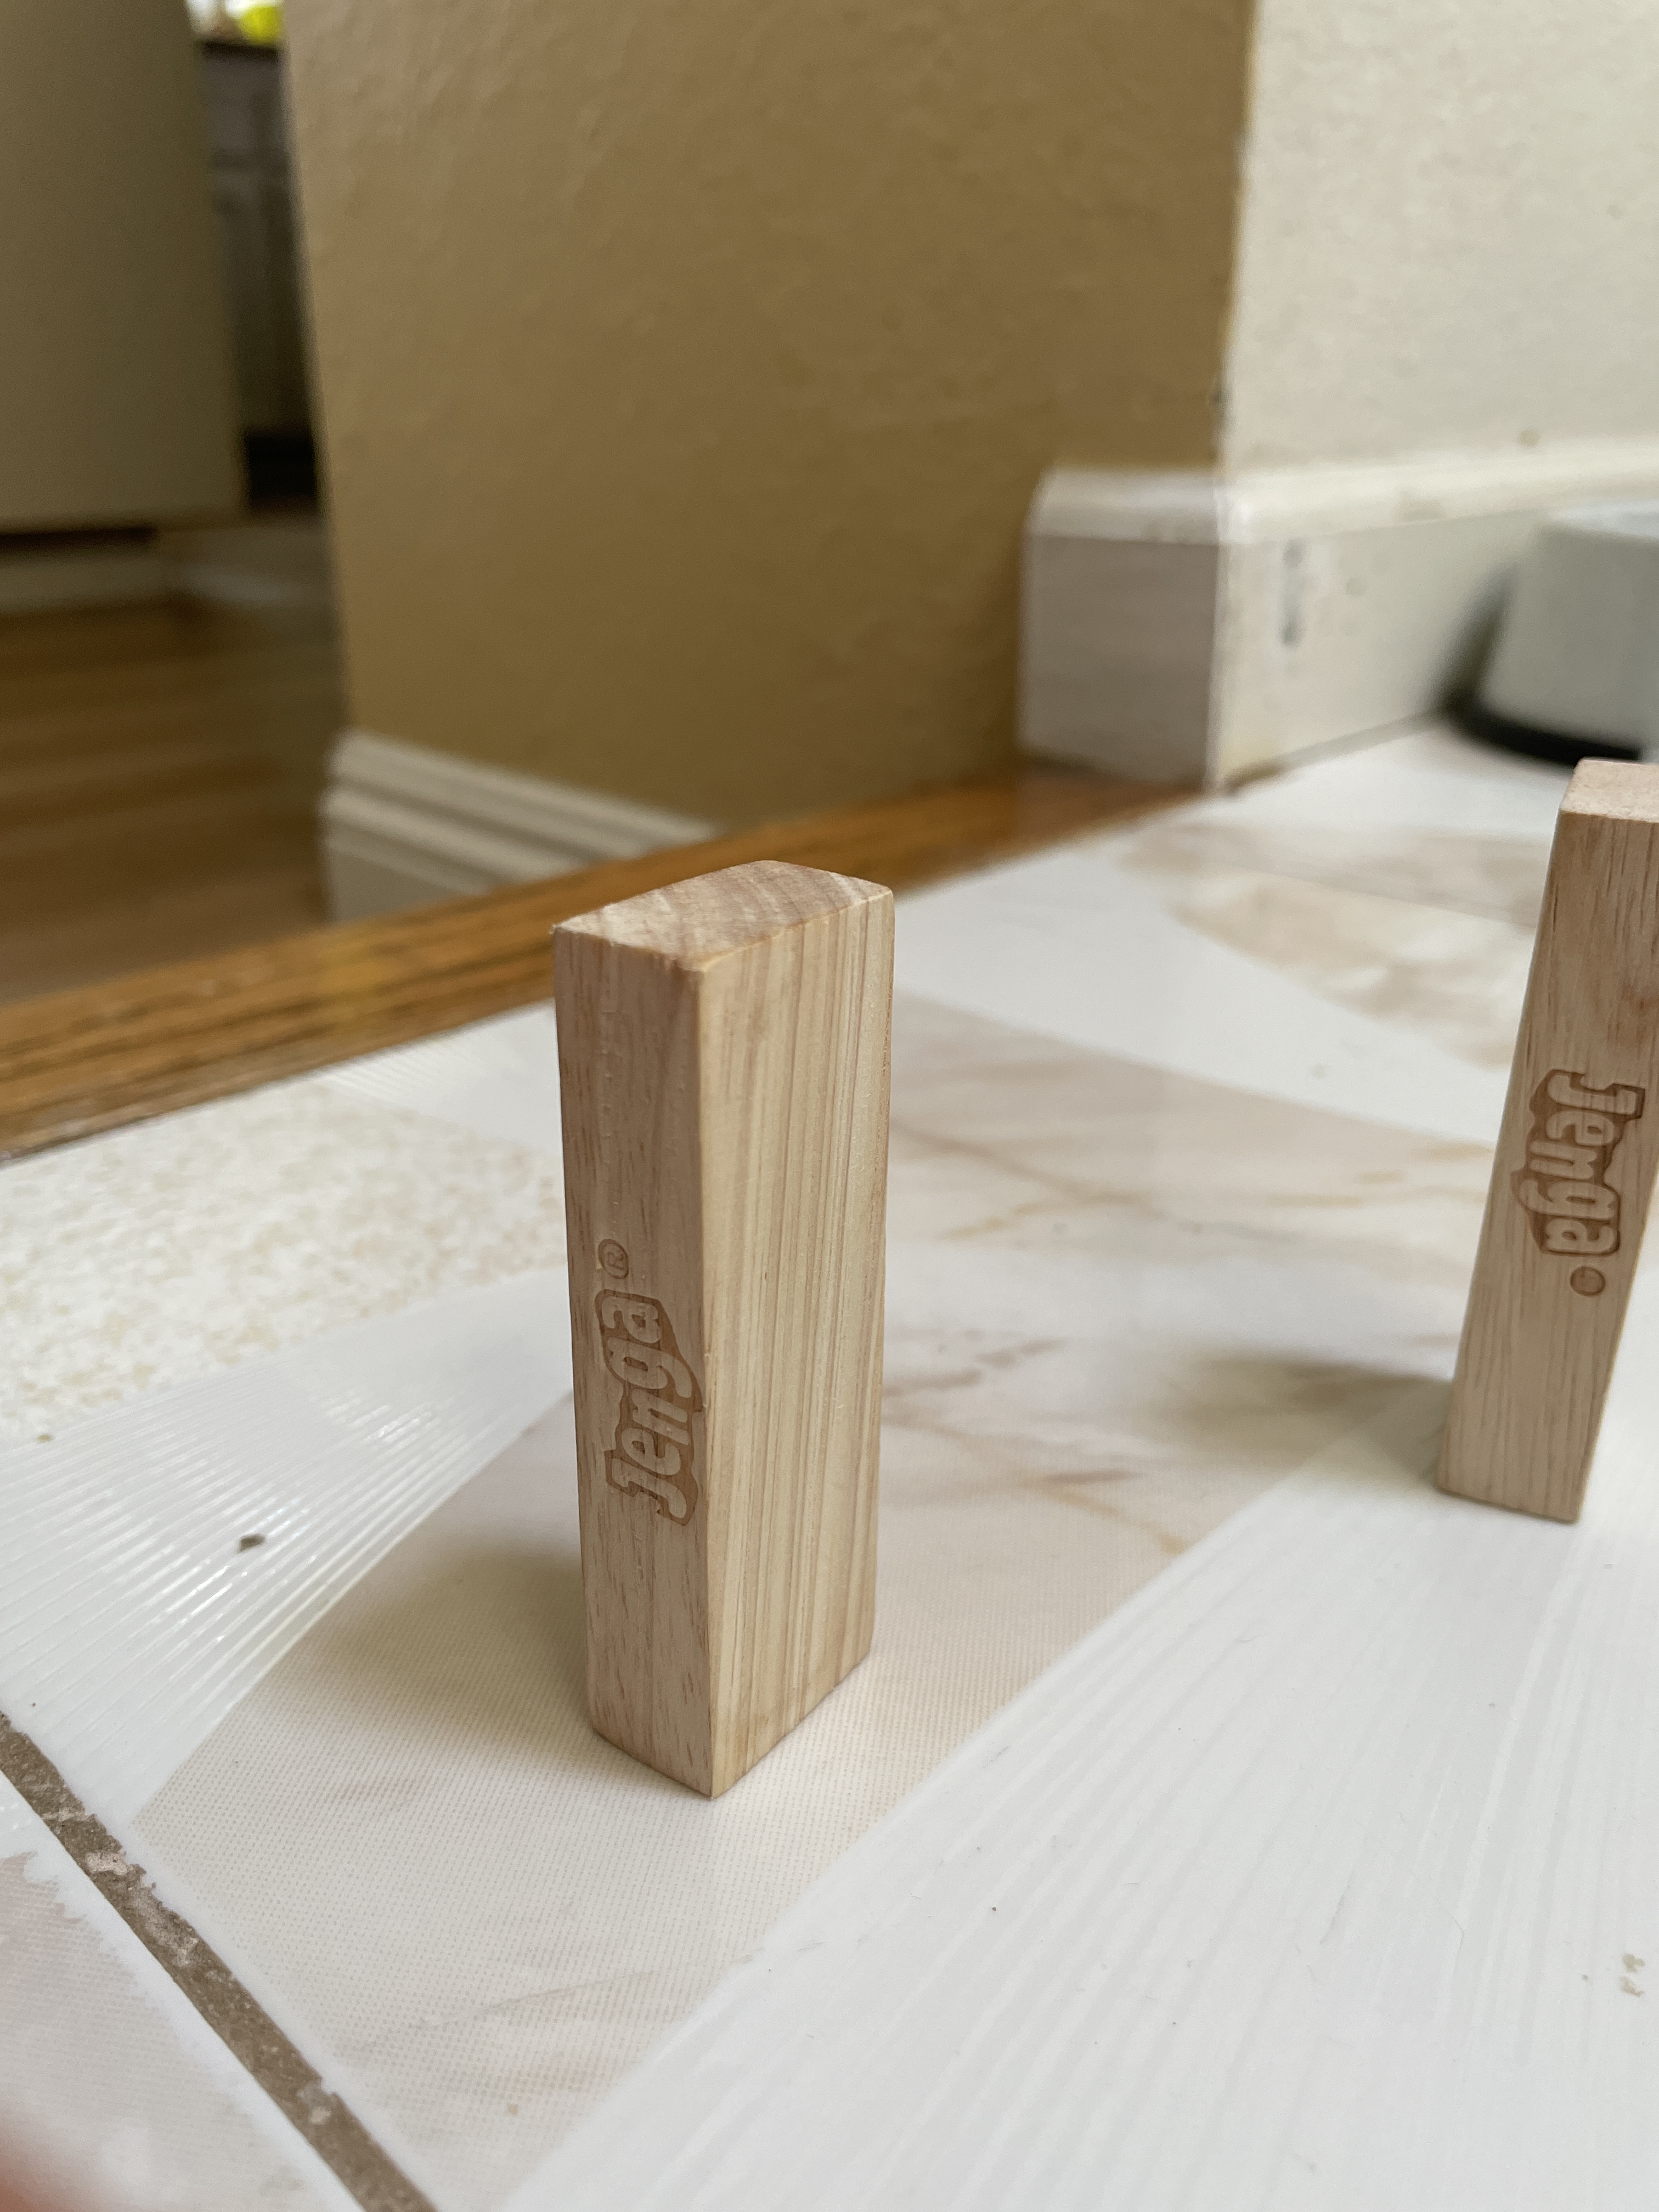jenga: (532, 852, 903, 1797), (1436, 756, 1659, 1524)
